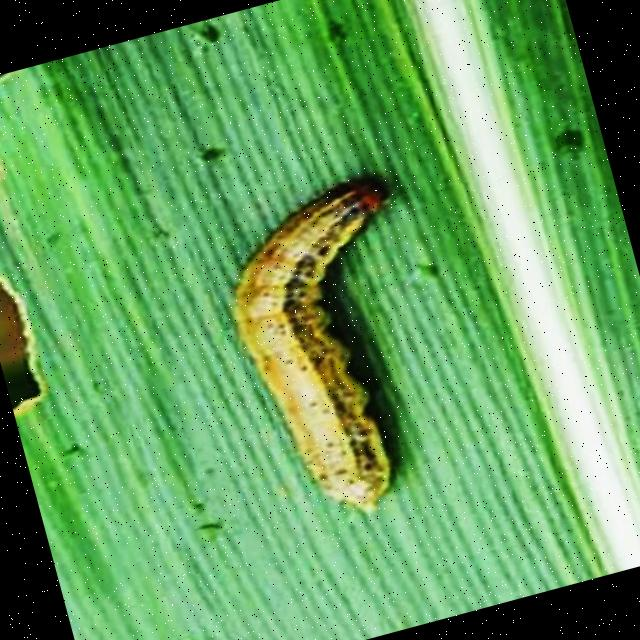worm: (206, 174, 470, 538)
